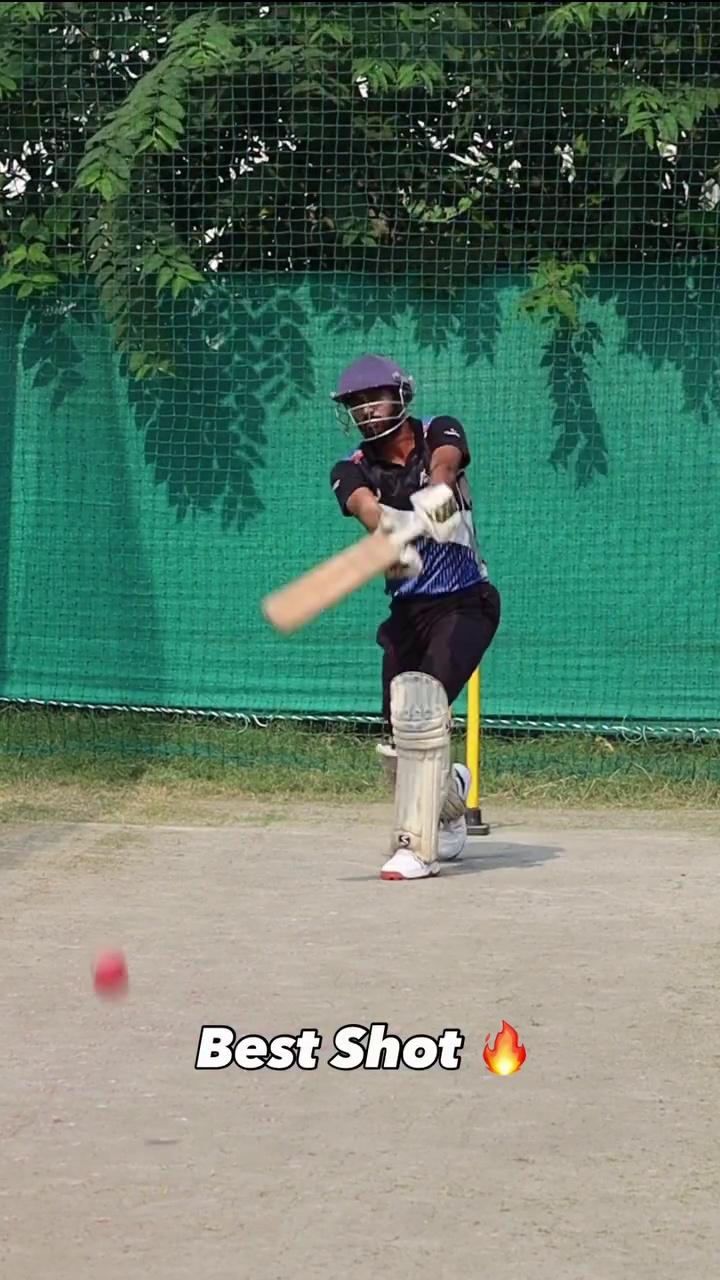bat: (258, 519, 405, 640)
